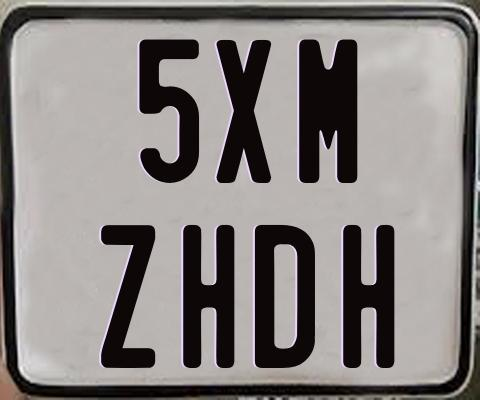5: (137, 36, 200, 180)
D: (254, 225, 318, 373)
H: (182, 222, 236, 365), (341, 223, 393, 367)
M: (299, 37, 362, 185)
X: (216, 38, 275, 183)
Z: (99, 222, 155, 365)
